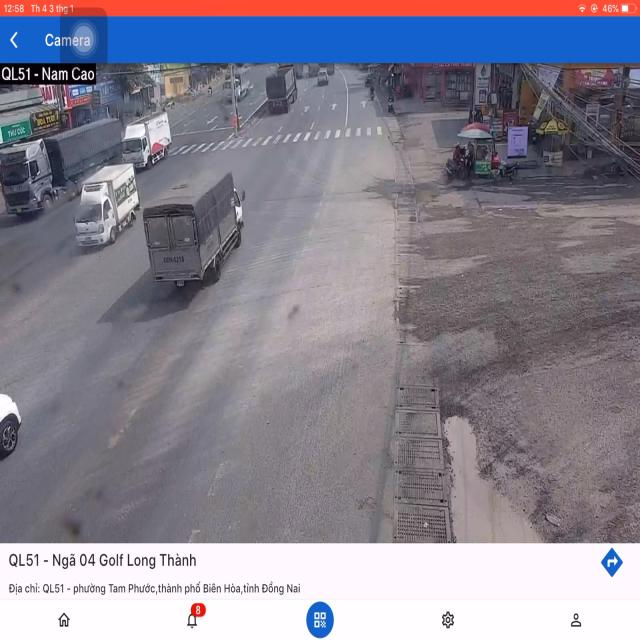car: (0, 386, 24, 480)
truck: (148, 164, 246, 287), (1, 120, 122, 210), (74, 164, 138, 249), (119, 119, 172, 168), (266, 70, 296, 116)
